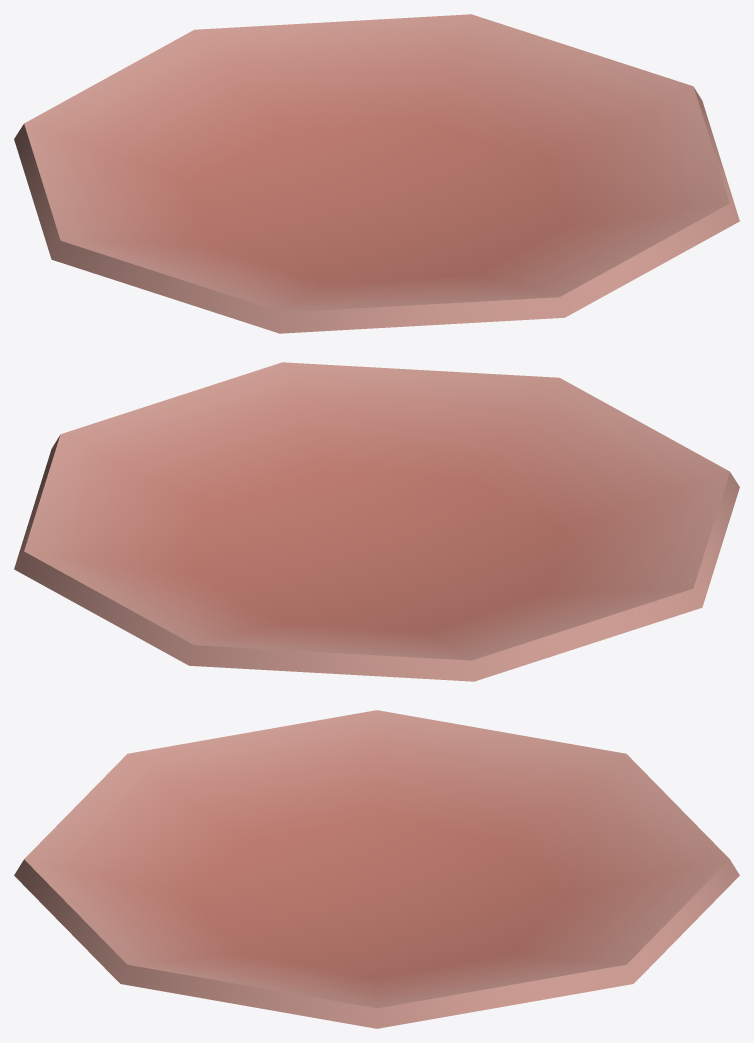
File: Dish8.fbx
3 renders of one model, top to bottom at view 1: azimuth 30°, elevation 25°; view 2: azimuth 150°, elevation 25°; view 3: azimuth 270°, elevation 25°, orthographic. The views are drawn at different scales.
Parts seen in each view (by area): view 1: Dish8; view 2: Dish8; view 3: Dish8.
Part boxes in pixels (<box>): Dish8: <box>14,14,739,333</box>; Dish8: <box>14,362,739,681</box>; Dish8: <box>14,710,739,1028</box>.
Size of the model in its own units: 85.72 by 7.25 by 85.72.
